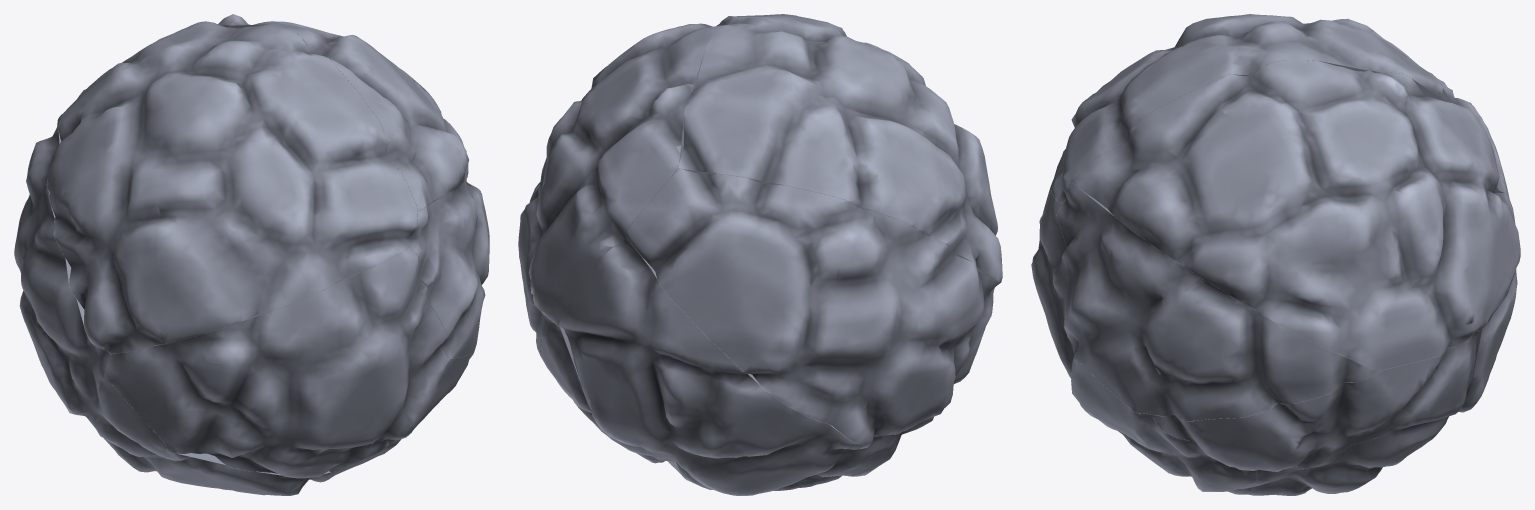
Rendered from boulderFractured.fbx.
3 views of the same model, side by side, from view 1: azimuth 30°, elevation 25°; view 2: azimuth 150°, elevation 25°; view 3: azimuth 270°, elevation 25° (orthographic).
Visible parts, largest first — view 1: BoulderFracture1, BoulderFracture9, BoulderFracture4, BoulderFracture5, BoulderFracture8, BoulderFracture10, BoulderFracture6; view 2: BoulderFracture4, BoulderFracture1, BoulderFracture7, BoulderFracture5, BoulderFracture3, BoulderFracture10, BoulderFracture2; view 3: BoulderFracture5, BoulderFracture8, BoulderFracture1, BoulderFracture2, BoulderFracture3, BoulderFracture6, BoulderFracture9, BoulderFracture7, BoulderFracture4.
Boxes of the visible parts, <box> form: BoulderFracture1: <box>47,21,417,354</box>; BoulderFracture9: <box>104,247,448,478</box>; BoulderFracture4: <box>14,89,110,424</box>; BoulderFracture5: <box>217,14,468,210</box>; BoulderFracture8: <box>409,177,489,358</box>; BoulderFracture10: <box>93,376,360,495</box>; BoulderFracture6: <box>341,353,473,472</box>; BoulderFracture4: <box>626,168,998,444</box>; BoulderFracture1: <box>678,14,1002,283</box>; BoulderFracture7: <box>558,236,900,495</box>; BoulderFracture5: <box>518,16,742,325</box>; BoulderFracture3: <box>540,322,687,480</box>; BoulderFracture10: <box>822,314,991,483</box>; BoulderFracture2: <box>520,266,549,355</box>; BoulderFracture5: <box>1072,60,1503,370</box>; BoulderFracture8: <box>1056,182,1378,421</box>; BoulderFracture1: <box>1051,14,1451,203</box>; BoulderFracture2: <box>1151,340,1468,471</box>; BoulderFracture3: <box>1245,329,1480,495</box>; BoulderFracture6: <box>1076,357,1256,494</box>; BoulderFracture9: <box>1031,178,1097,418</box>; BoulderFracture7: <box>1459,181,1520,412</box>; BoulderFracture4: <box>1420,66,1508,195</box>.
Size of the model in its own units: 507 by 517 by 514.
1 material, 1 textured.
